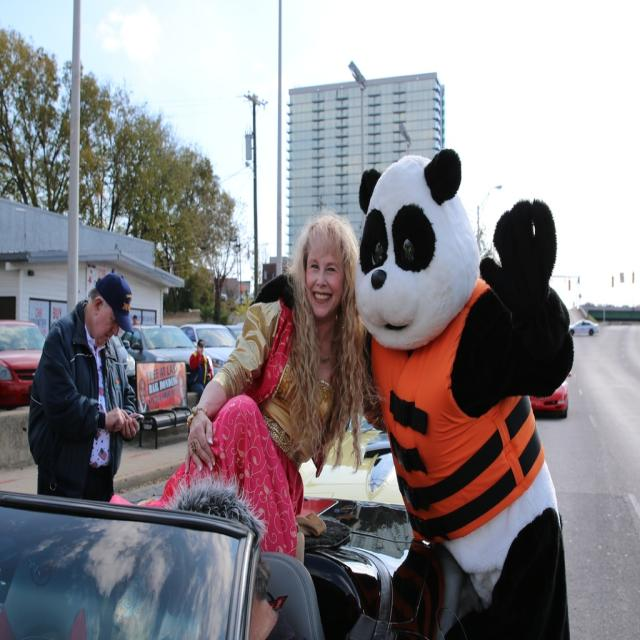panda: (352, 147, 574, 639)
